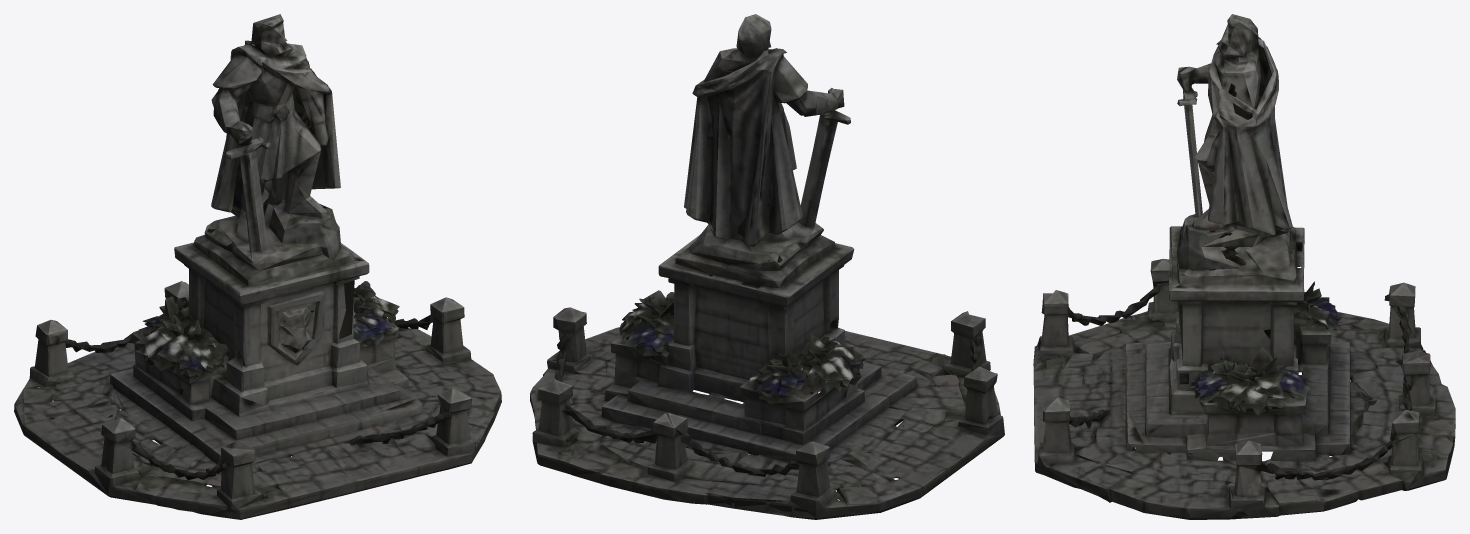
The model's file is war_statue_01.glb.
3 views of the same model, side by side, from view 1: azimuth 30°, elevation 25°; view 2: azimuth 150°, elevation 25°; view 3: azimuth 270°, elevation 25° (orthographic).
Visible parts, largest first — view 1: geometry_0; view 2: geometry_0; view 3: geometry_0.
Part boxes in pixels (x1,y1,x2,y2): geometry_0: [14, 14, 501, 519]; geometry_0: [530, 14, 1004, 519]; geometry_0: [1033, 14, 1455, 519].
Bounding box in the file's own units: 0.9982 × 0.9469 × 0.887.
1 material, 1 textured.
